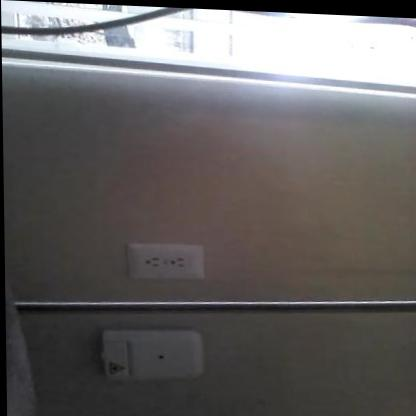OUTLET: (124, 242, 206, 282)
